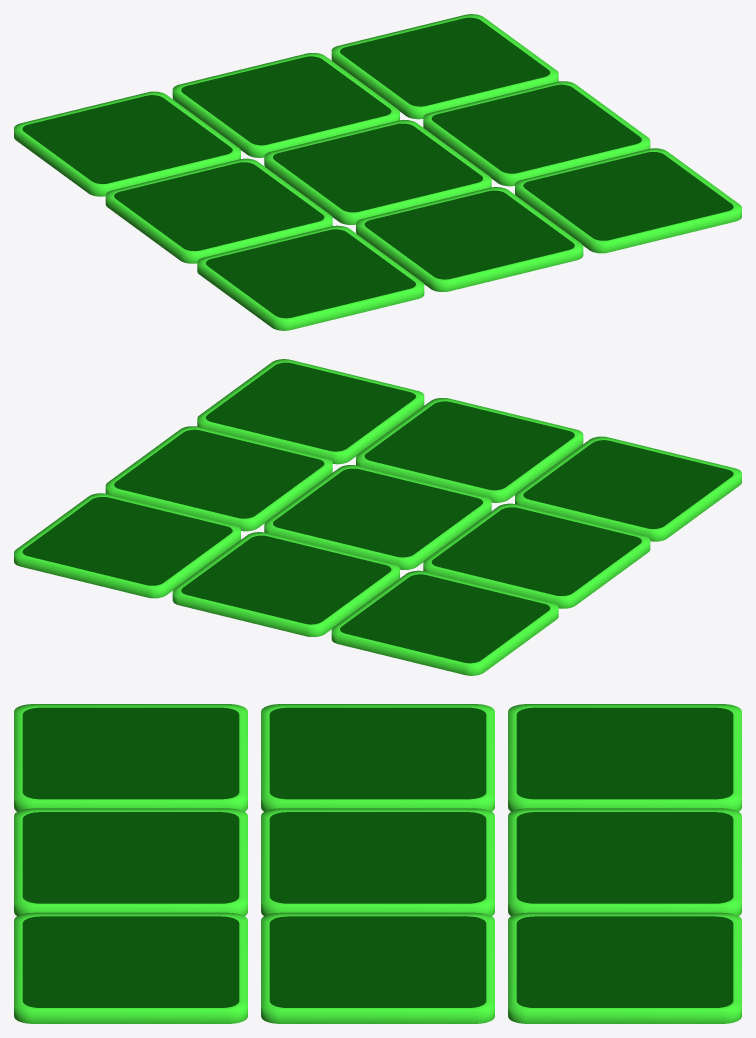
Rendered from BasicTileSet.fbx.
3 renders of one model, top to bottom at view 1: azimuth 30°, elevation 25°; view 2: azimuth 150°, elevation 25°; view 3: azimuth 270°, elevation 25°, orthographic. The views are drawn at different scales.
Visible parts, largest first — view 1: Tile.3, Tile.2, Tile.1, Tile.6, Tile.9, Tile.4, Tile.8, Tile.7, Tile.5; view 2: Tile.9, Tile.8, Tile.7, Tile.6, Tile.3, Tile.4, Tile.2, Tile.1, Tile.5; view 3: Tile.1, Tile.4, Tile.7, Tile.3, Tile.6, Tile.9, Tile.2, Tile.5, Tile.8.
Boxes of the visible parts, x1=… form: Tile.3: x1=197, y1=225, x2=424, y2=330; Tile.2: x1=356, y1=187, x2=583, y2=291; Tile.1: x1=515, y1=148, x2=741, y2=253; Tile.6: x1=105, y1=158, x2=332, y2=263; Tile.9: x1=14, y1=91, x2=240, y2=196; Tile.4: x1=423, y1=81, x2=650, y2=186; Tile.8: x1=172, y1=53, x2=399, y2=157; Tile.7: x1=331, y1=14, x2=558, y2=119; Tile.5: x1=264, y1=120, x2=491, y2=224; Tile.9: x1=331, y1=570, x2=558, y2=675; Tile.8: x1=172, y1=532, x2=399, y2=636; Tile.7: x1=14, y1=493, x2=240, y2=598; Tile.6: x1=423, y1=503, x2=650, y2=608; Tile.3: x1=515, y1=436, x2=741, y2=541; Tile.4: x1=105, y1=426, x2=332, y2=531; Tile.2: x1=356, y1=398, x2=583, y2=502; Tile.1: x1=197, y1=359, x2=424, y2=464; Tile.5: x1=264, y1=465, x2=491, y2=569; Tile.1: x1=14, y1=912, x2=247, y2=1023; Tile.4: x1=261, y1=912, x2=494, y2=1023; Tile.7: x1=508, y1=912, x2=741, y2=1023; Tile.3: x1=14, y1=704, x2=247, y2=811; Tile.6: x1=261, y1=704, x2=494, y2=811; Tile.9: x1=508, y1=704, x2=741, y2=811; Tile.2: x1=14, y1=808, x2=247, y2=915; Tile.5: x1=261, y1=808, x2=494, y2=915; Tile.8: x1=508, y1=808, x2=741, y2=915.
Size of the model in its own units: 5.6 by 0.1038 by 5.6.
